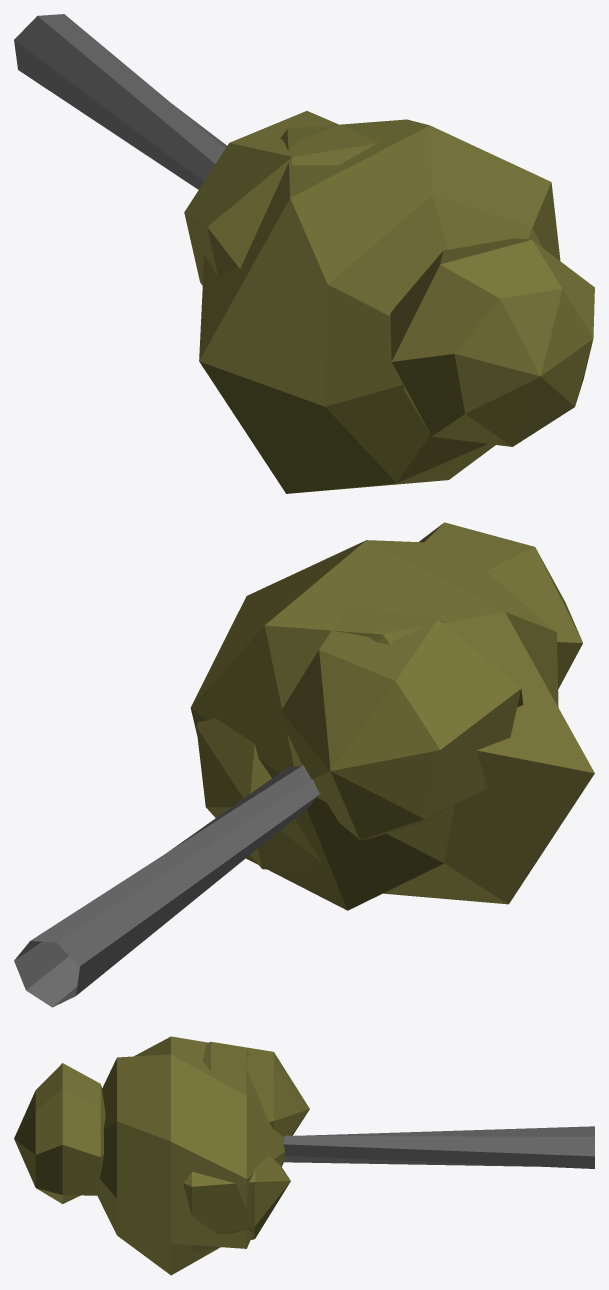
Rendered from dying_0.glb.
3 renders of one model, top to bottom at view 1: azimuth 30°, elevation 25°; view 2: azimuth 150°, elevation 25°; view 3: azimuth 270°, elevation 25°, orthographic. The views are drawn at different scales.
Parts seen in each view (by area): view 1: tree_04_dying_0; view 2: tree_04_dying_0; view 3: tree_04_dying_0.
Part boxes in pixels (x1=…): tree_04_dying_0: x1=14, y1=14, x2=594, y2=493; tree_04_dying_0: x1=14, y1=522, x2=594, y2=1007; tree_04_dying_0: x1=14, y1=1036, x2=594, y2=1275.
Size of the model in its own units: 15 by 13.9 by 33.95.
